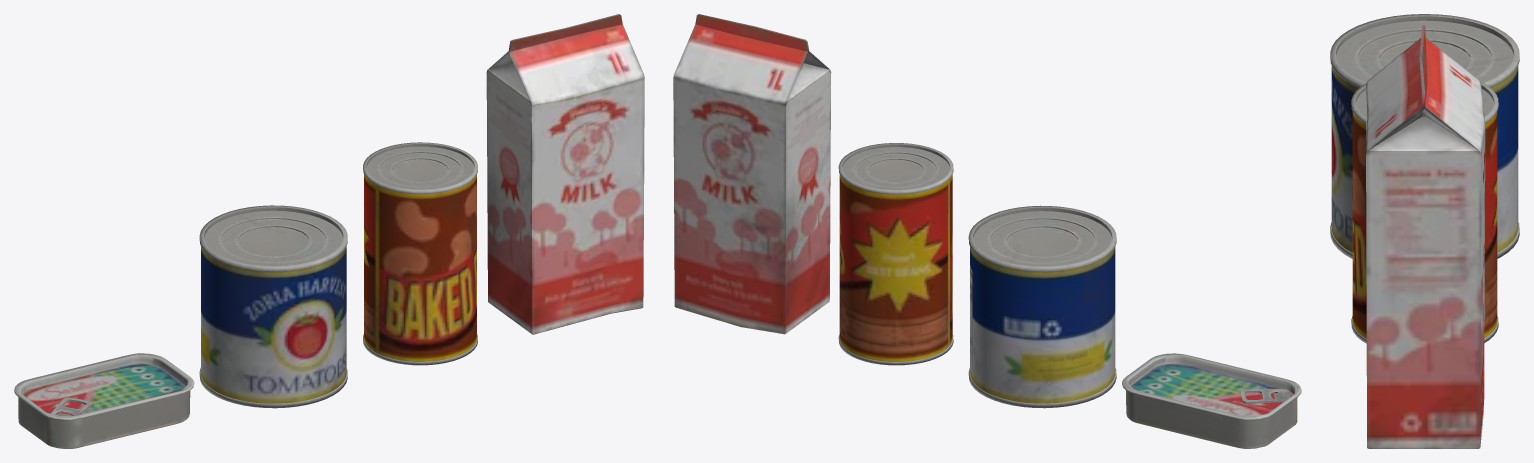
File: long_life_food.glb
The picture shows the model from 3 angles, left to right: view 1: azimuth 30°, elevation 25°; view 2: azimuth 150°, elevation 25°; view 3: azimuth 270°, elevation 25°; orthographic projection. The views are drawn at different scales.
Parts seen in each view (by area): view 1: long_life_food_milk; view 2: long_life_food_milk; view 3: long_life_food_milk.
Part boxes in pixels (x1,y1,x2,y2): long_life_food_milk: (14,14,644,448); long_life_food_milk: (673,14,1301,448); long_life_food_milk: (1330,14,1519,448).
Bounding box in the file's own units: 0.5237 × 0.2376 × 0.1135.
Materials: 1 (1 with a texture image).
